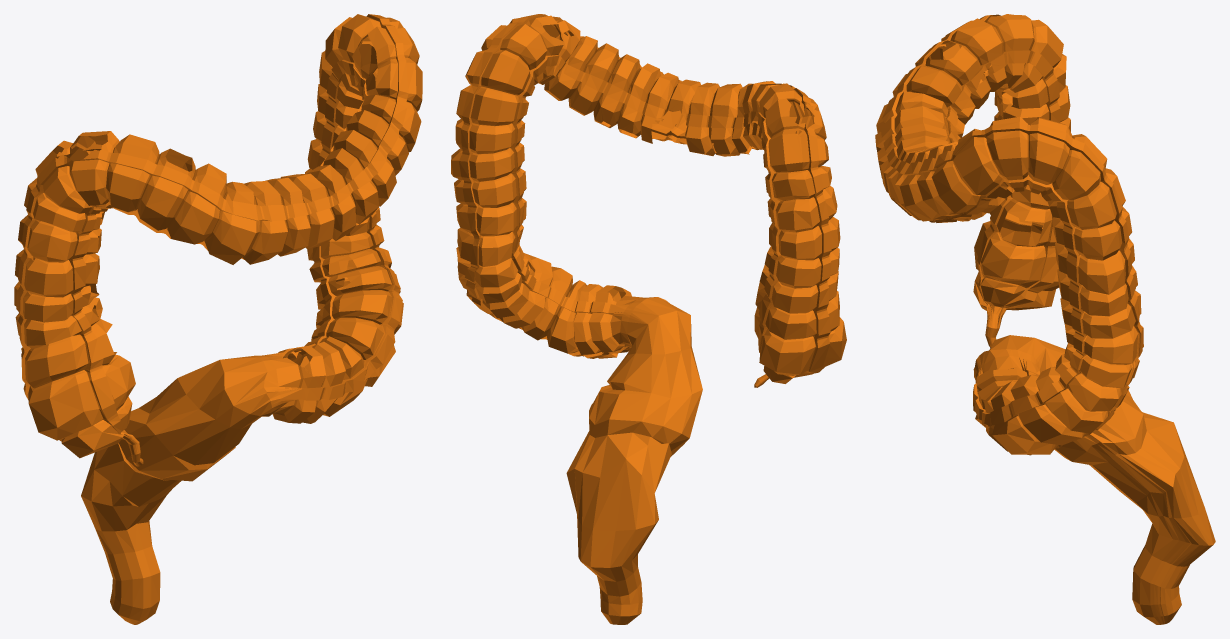
The model's file is large int.gltf.
3 views of the same model, side by side, from view 1: azimuth 30°, elevation 25°; view 2: azimuth 150°, elevation 25°; view 3: azimuth 270°, elevation 25° (orthographic). The views are drawn at different scales.
Visible parts, largest first — view 1: node_id32.004; view 2: node_id32.004; view 3: node_id32.004.
Boxes of the visible parts, <box> form: node_id32.004: <box>14,14,422,624</box>; node_id32.004: <box>451,14,846,624</box>; node_id32.004: <box>875,14,1215,624</box>.
Size of the model in its own units: 2.34 by 3.36 by 1.77.
